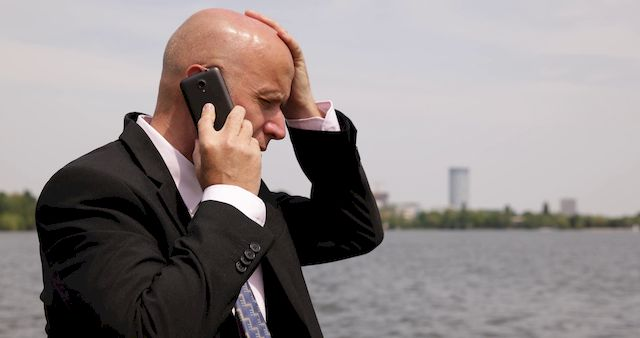phone: (176, 66, 240, 149)
talk: (177, 53, 294, 190)
